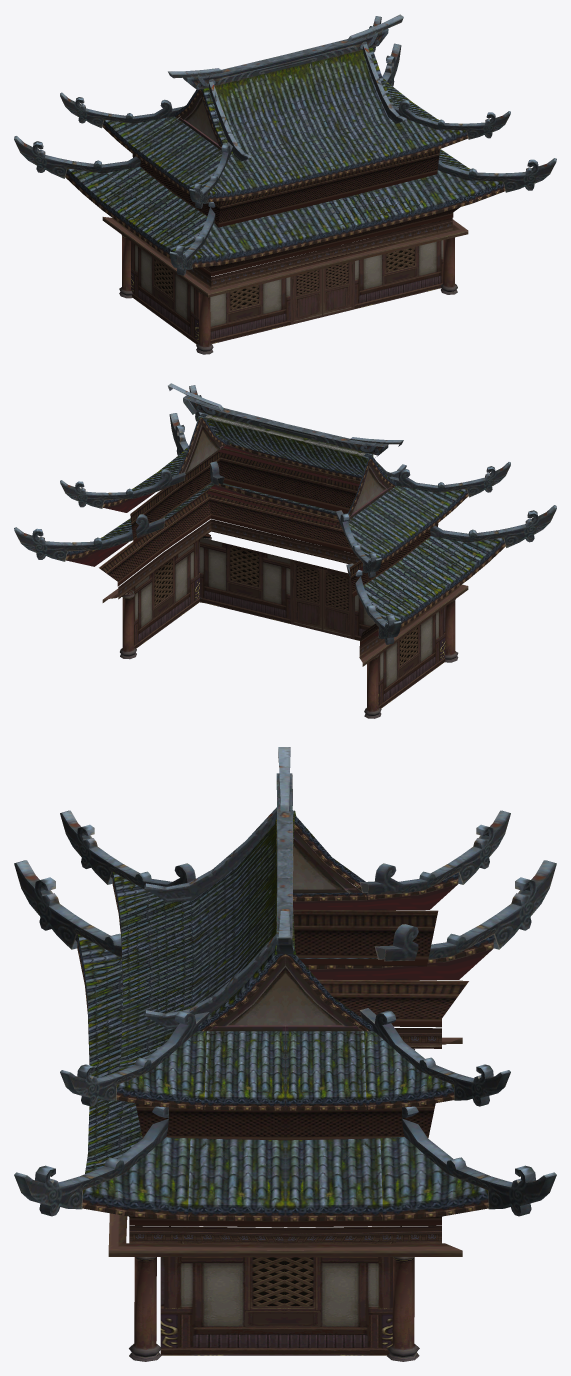
The model's file is fangwu_01.FBX.
3 views of the same model, one above another, from view 1: azimuth 30°, elevation 25°; view 2: azimuth 150°, elevation 25°; view 3: azimuth 270°, elevation 25° (orthographic). The views are drawn at different scales.
Parts seen in each view (by area): view 1: Object035; view 2: Object035; view 3: Object035.
Part boxes in pixels (x1=…): Object035: x1=14, y1=14, x2=556, y2=354; Object035: x1=14, y1=383, x2=556, y2=718; Object035: x1=14, y1=747, x2=556, y2=1361.
Size of the model in its own units: 2652 by 1612 by 1918.
1 material, 1 textured.
